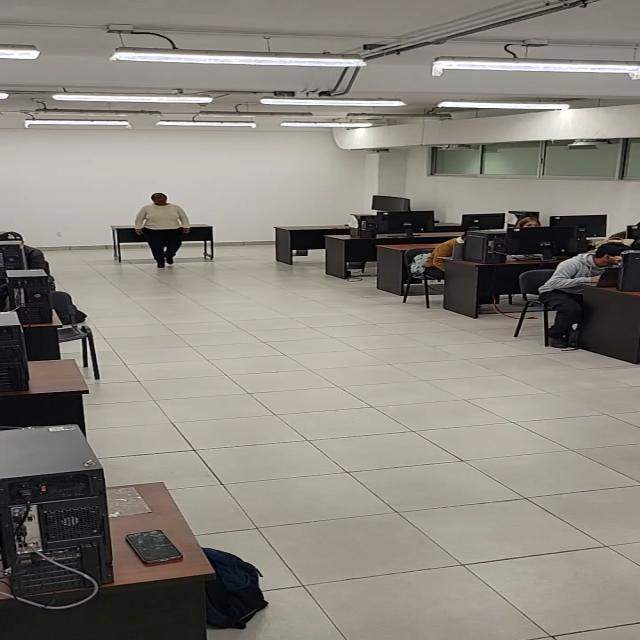Persona: (134, 193, 191, 268)
